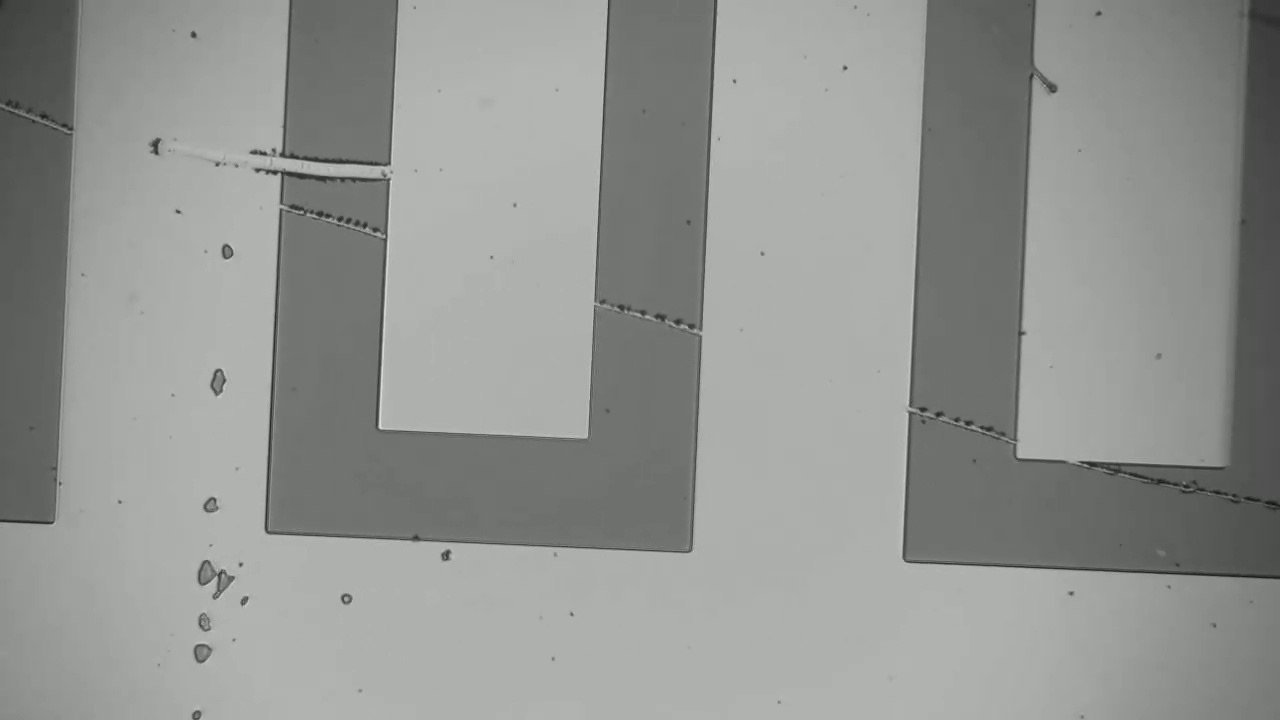Short_circuit: (242, 136, 422, 190)
scratch: (1096, 469, 1267, 506), (916, 402, 1003, 438), (286, 201, 378, 232), (604, 297, 693, 327), (0, 96, 66, 129)
